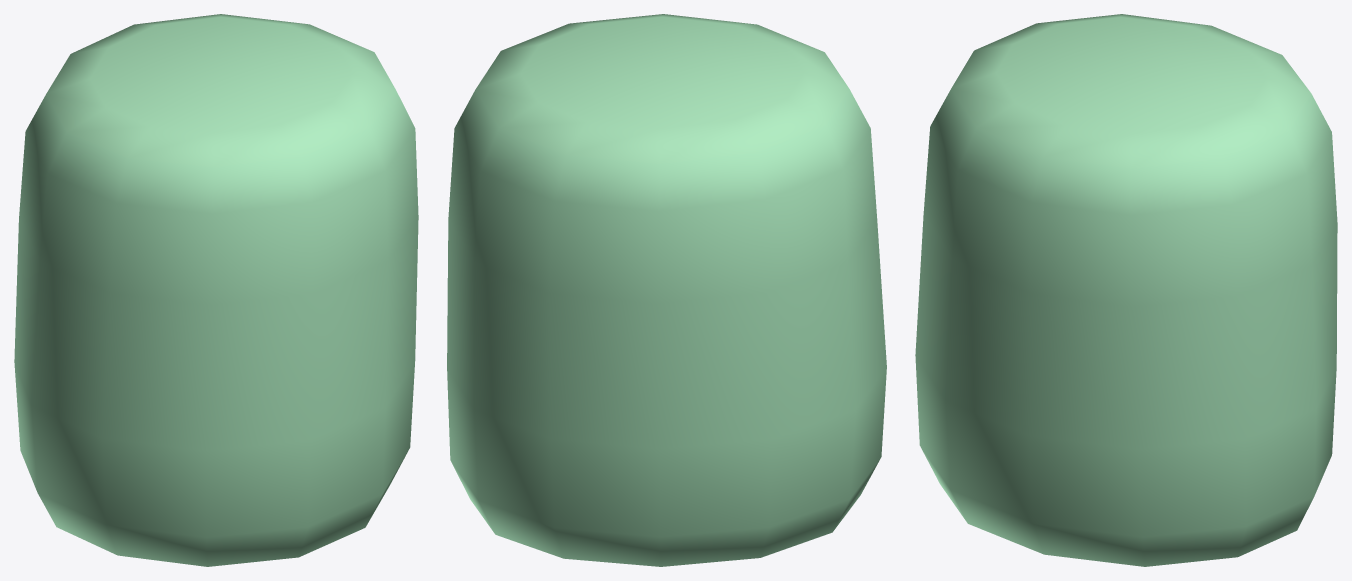
Rendered from marshmallow_004.glb.
3 renders of one model, left to right at view 1: azimuth 30°, elevation 25°; view 2: azimuth 150°, elevation 25°; view 3: azimuth 270°, elevation 25°, orthographic. The views are drawn at different scales.
Parts seen in each view (by area): view 1: marshmallow_004; view 2: marshmallow_004; view 3: marshmallow_004.
Boxes of the visible parts, box(x1,y1,x2,y2) form: marshmallow_004: box(14, 14, 418, 566); marshmallow_004: box(447, 14, 886, 566); marshmallow_004: box(915, 14, 1337, 566).
Size of the model in its own units: 1.1 by 1.22 by 1.08.
Materials: 1 (1 with a texture image).
